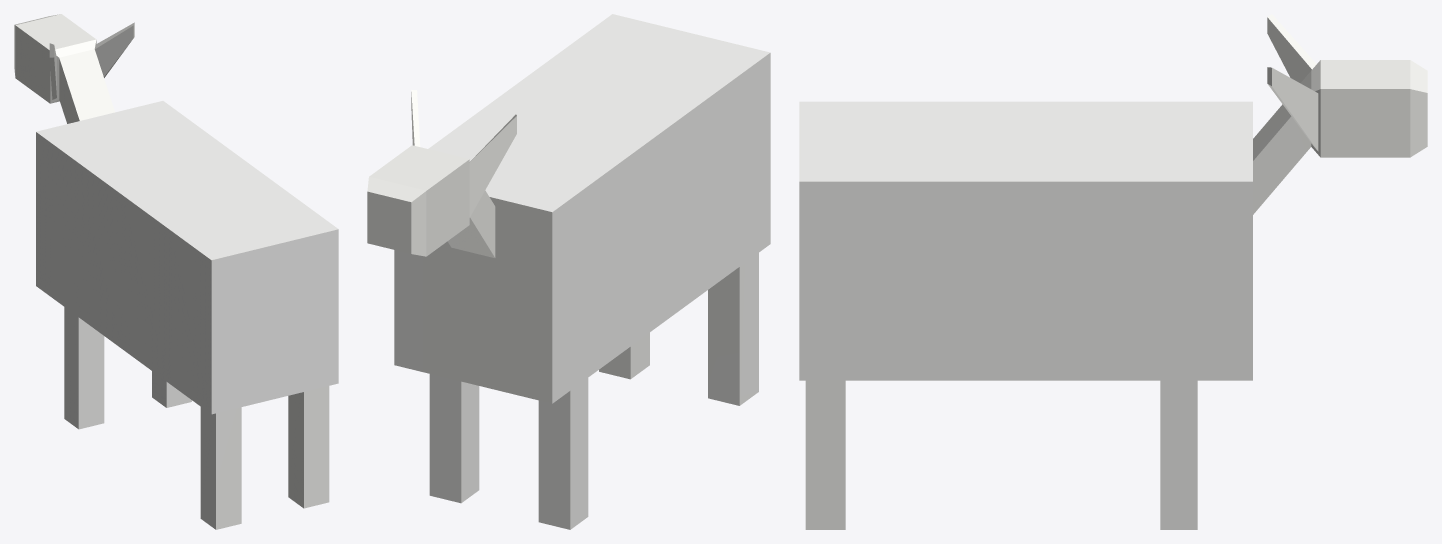
The model's file is sheep.gltf.
3 renders of one model, left to right at view 1: azimuth 30°, elevation 25°; view 2: azimuth 150°, elevation 25°; view 3: azimuth 270°, elevation 25°, orthographic. The views are drawn at different scales.
Parts seen in each view (by area): view 1: sheep; view 2: sheep; view 3: sheep.
Part boxes in pixels (box(x1,y1,x2,y2)): sheep: box(14, 14, 338, 529); sheep: box(367, 14, 770, 529); sheep: box(799, 14, 1427, 529).
Bounding box in the file's own units: 0.3091 × 0.8152 × 1.02.
1 material, 1 textured.
